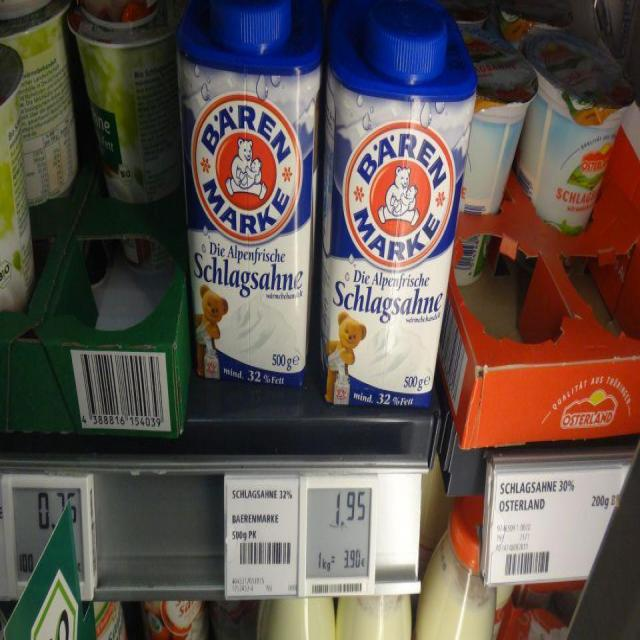Cream: (321, 0, 476, 407), (178, 0, 321, 386), (68, 4, 181, 274), (516, 31, 633, 235), (455, 30, 537, 286), (0, 0, 77, 205), (415, 497, 495, 639), (0, 44, 34, 311)
